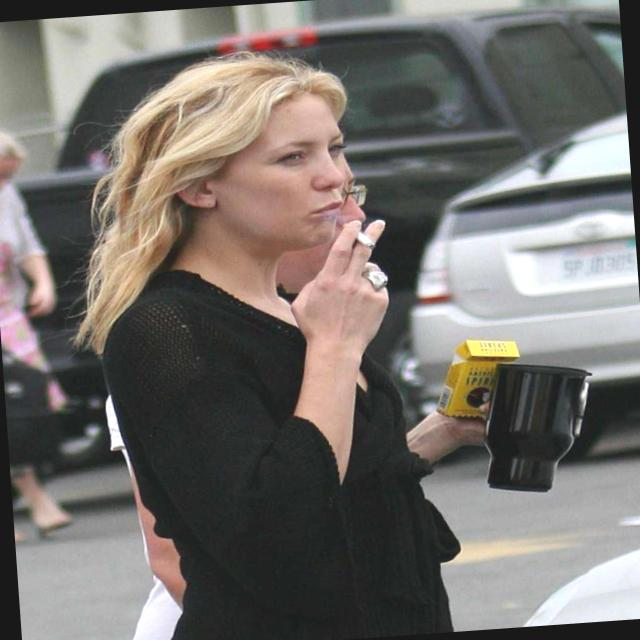smoke: (320, 202, 386, 262)
